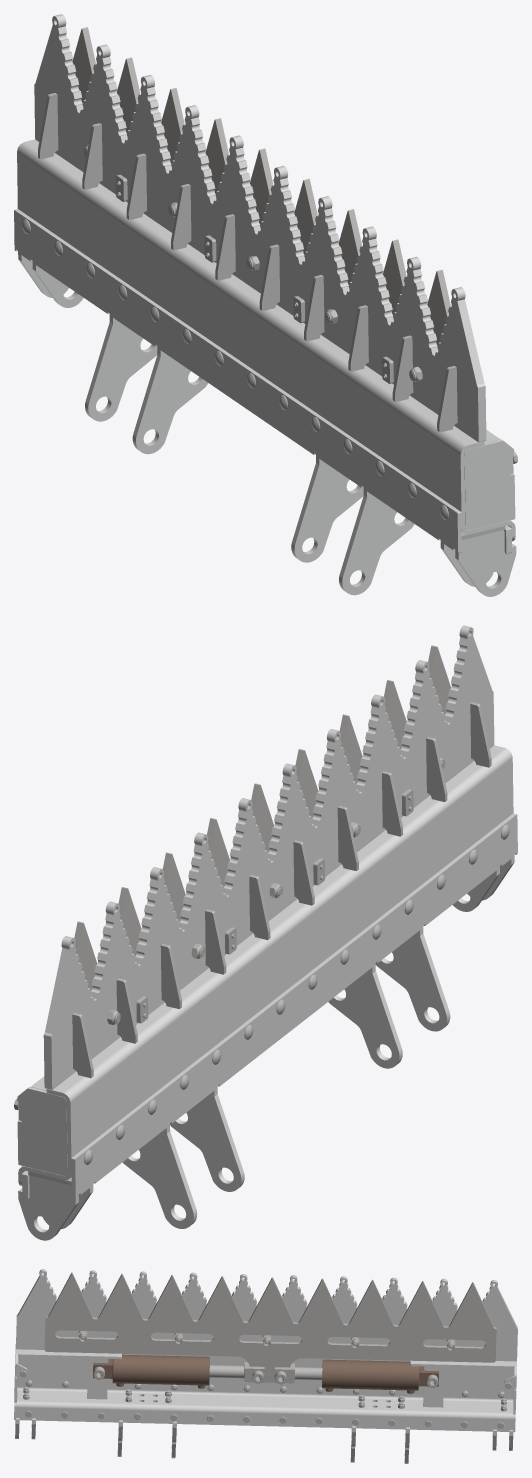
File: kASSE.glb
3 views of the same model, one above another, from view 1: azimuth 30°, elevation 25°; view 2: azimuth 150°, elevation 25°; view 3: azimuth 270°, elevation 25° (orthographic). The views are drawn at different scales.
Parts seen in each view (by area): view 1: Solid1 (×21); view 2: Solid1 (×20); view 3: Solid1 (×12).
Part boxes in pixels (x1,y1,x2,y2): Solid1 (×21): (14,14,516,596); Solid1 (×20): (17,625,517,1240); Solid1 (×12): (14,1269,517,1432).
Size of the model in its own units: 0.2326 by 0.8911 by 2.01.
